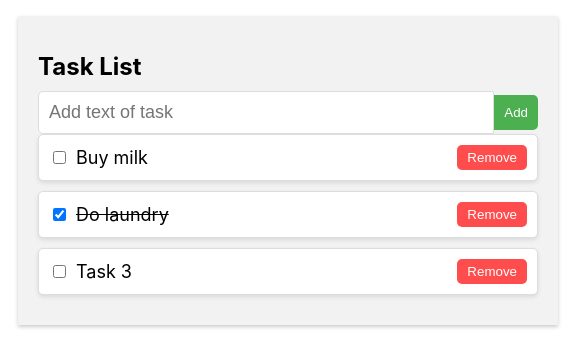
Test: TaskList › with  given tasks, on click on Remove button with index 1, corresponding task is deleted
The image size is (577, 346).
Click the button "Remove" in the row of "Do laundry": {"x": 492, "y": 215} [457, 202, 527, 227]
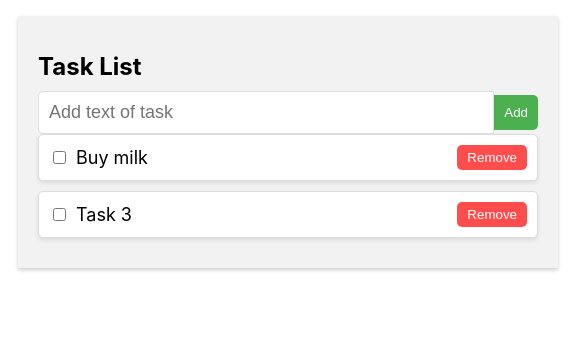
Expected: the text "Buy milk" is shown, [76, 147, 148, 168]
Expected: the number of buttons "Remove" is 2, [457, 145, 527, 170]; [457, 202, 527, 227]
Expected: the text "Do laundry" is gone
